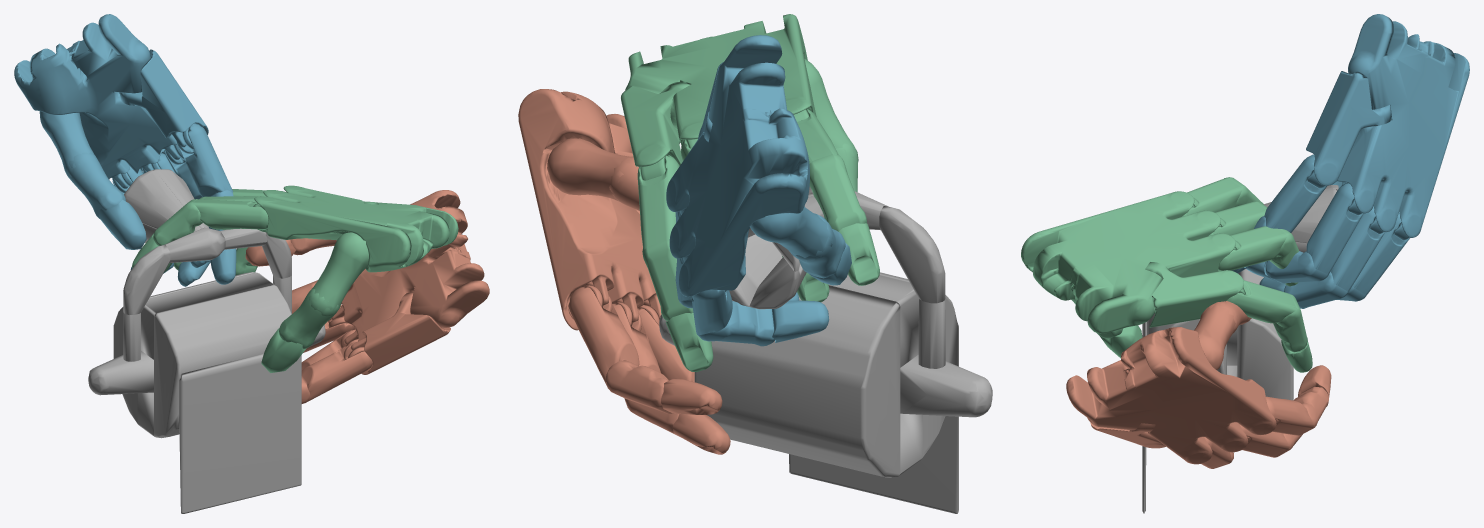
The picture shows the model from 3 angles, left to right: view 1: azimuth 30°, elevation 25°; view 2: azimuth 150°, elevation 25°; view 3: azimuth 270°, elevation 25°; orthographic projection. The views are drawn at different scales.
Size of the model in its own units: 0.2581 by 0.2893 by 0.2601.
